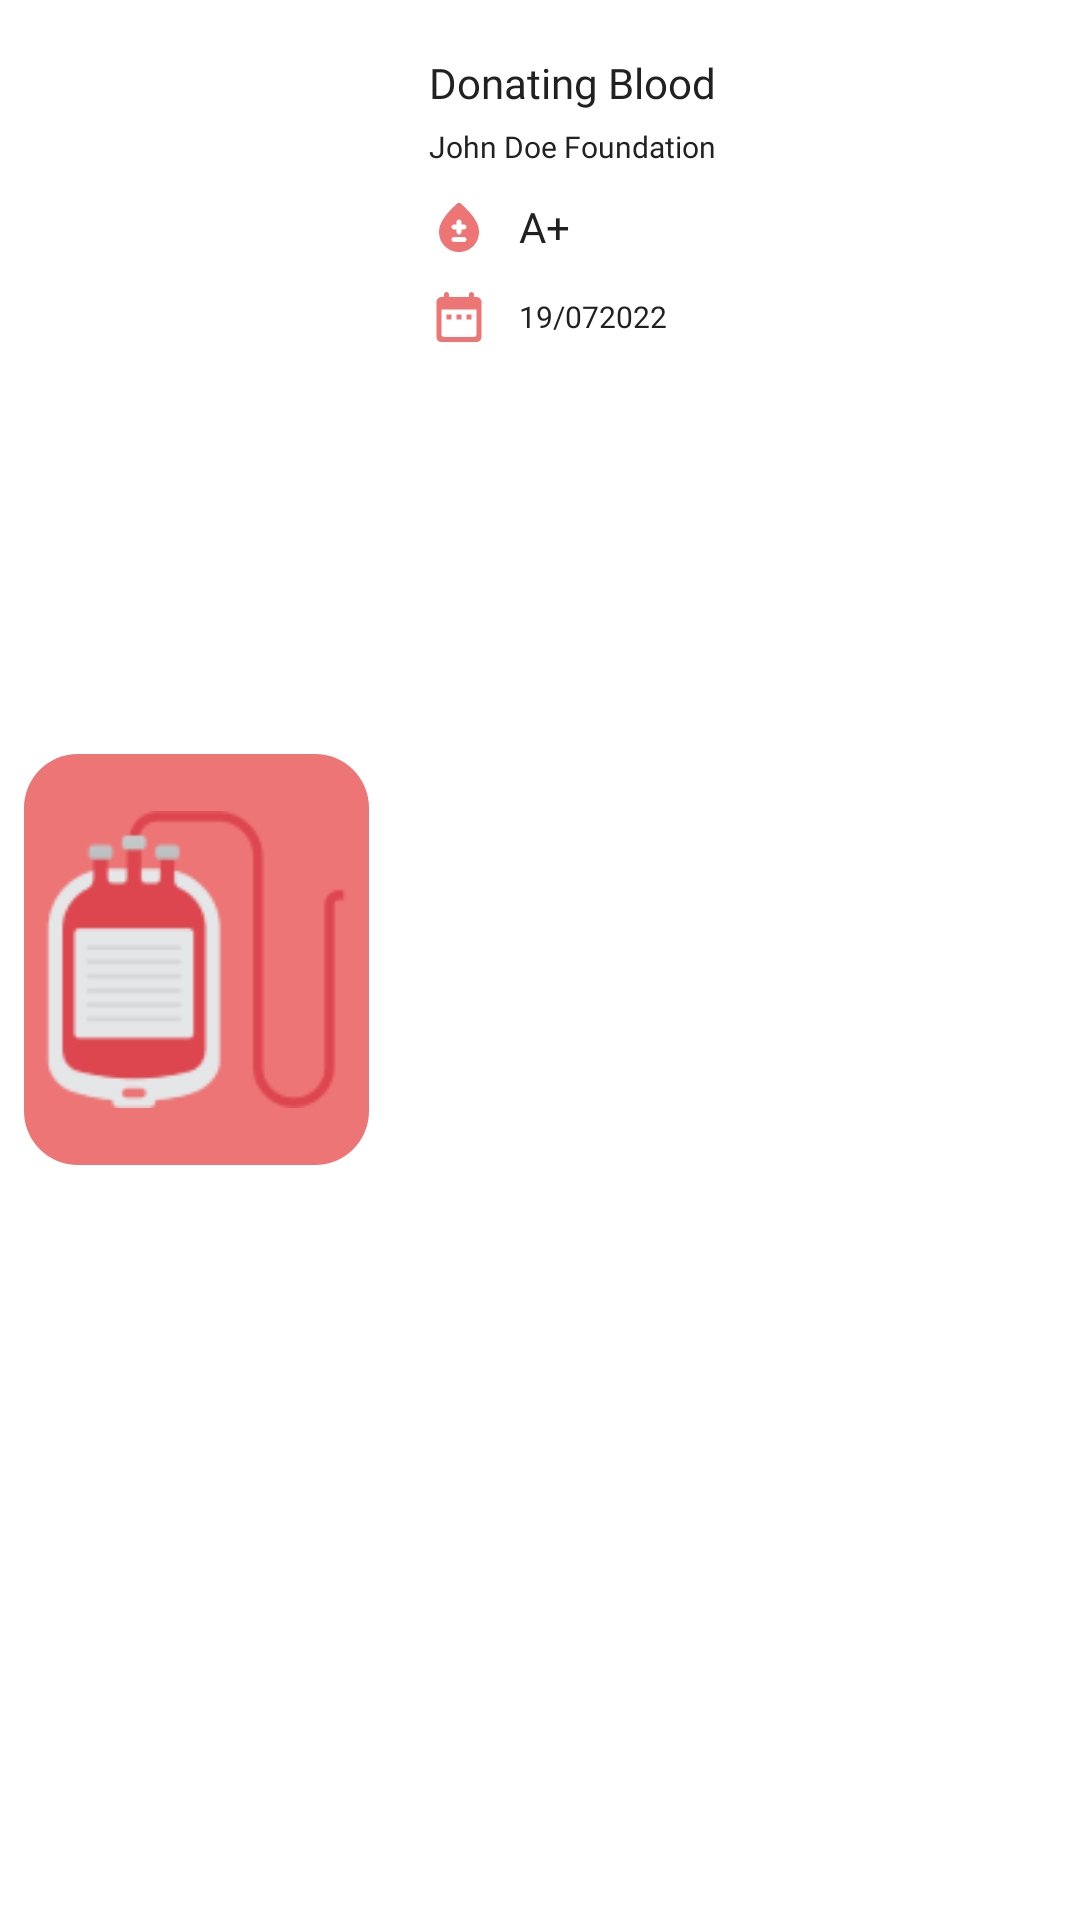

Where icons sit on this 1080*1920 app screen, as {"left": x1, "top": y1, "right": x2, "bottom": y2}:
blood: {"left": 47, "top": 811, "right": 344, "bottom": 1108}
bloodtype: {"left": 439, "top": 203, "right": 479, "bottom": 252}
date range: {"left": 436, "top": 292, "right": 482, "bottom": 342}
